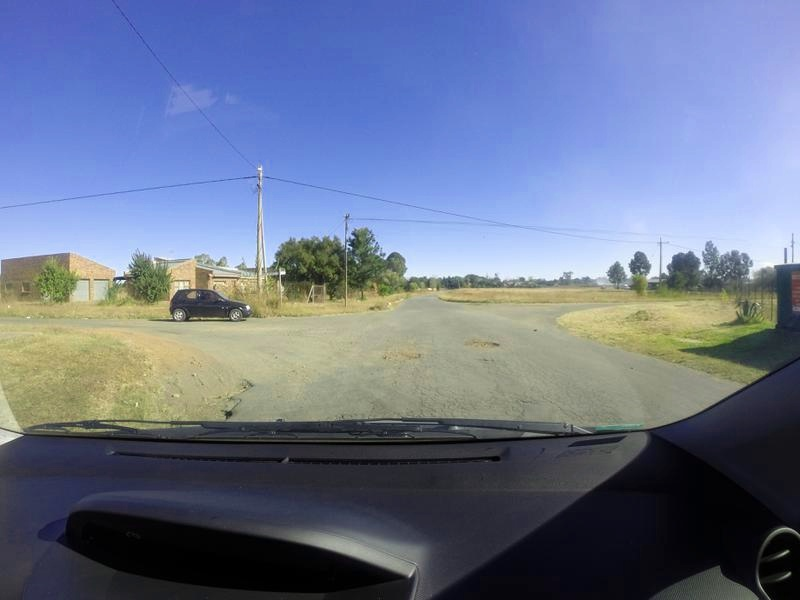pothole: (189, 378, 265, 412), (380, 342, 426, 370), (464, 333, 503, 354)
